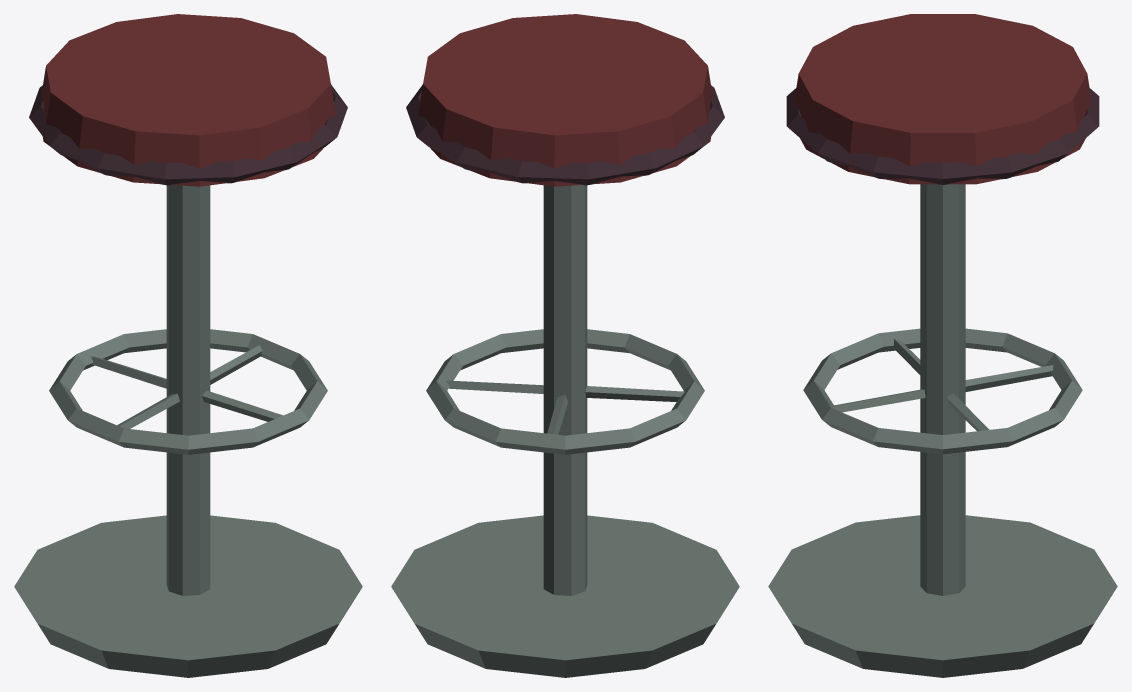
The model's file is scaun_bar_urban.glb.
3 renders of one model, left to right at view 1: azimuth 30°, elevation 25°; view 2: azimuth 150°, elevation 25°; view 3: azimuth 270°, elevation 25°, orthographic.
Visible parts, largest first — view 1: Scaun; view 2: Scaun; view 3: Scaun.
Part boxes in pixels (box(x1,y1,x2,y2)): Scaun: box(14, 14, 362, 677); Scaun: box(391, 14, 739, 677); Scaun: box(768, 14, 1117, 677).
Size of the model in its own units: 0.46 by 0.78 by 0.46.
